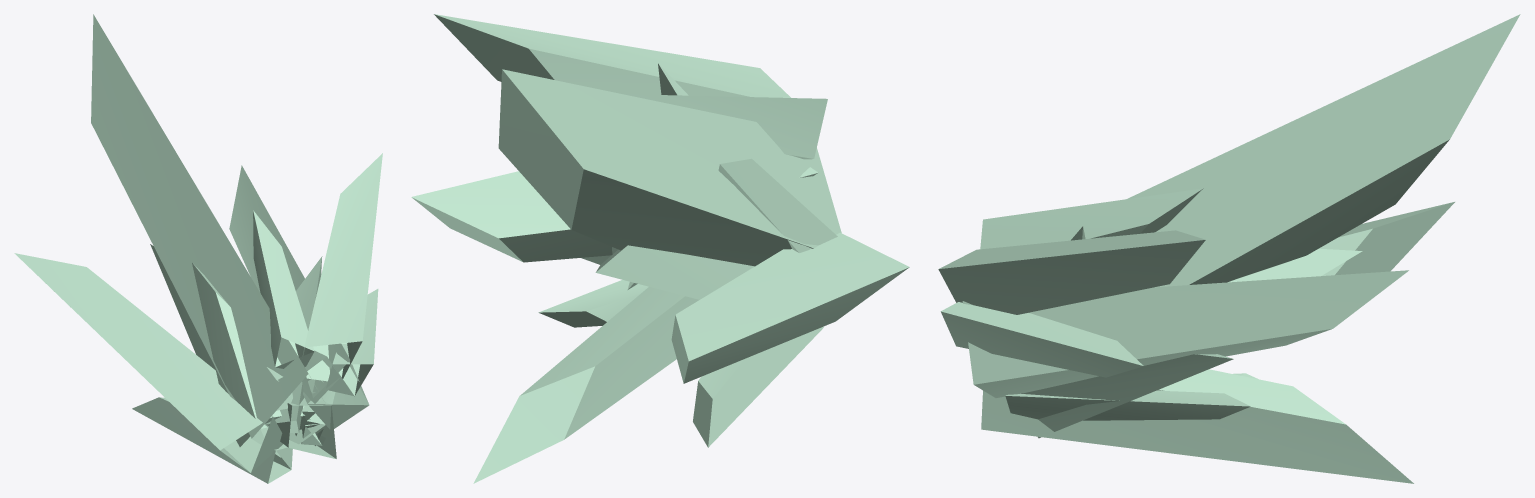
The picture shows the model from 3 angles, left to right: view 1: azimuth 30°, elevation 25°; view 2: azimuth 150°, elevation 25°; view 3: azimuth 270°, elevation 25°; orthographic projection. The views are drawn at different scales.
Parts seen in each view (by area): view 1: Object93; view 2: Object93; view 3: Object93.
Boxes of the visible parts, x1,y1,x2,y2 form: Object93: [14, 14, 382, 483]; Object93: [411, 14, 909, 483]; Object93: [938, 14, 1520, 483].
Bounding box in the file's own units: 31168 × 36226 × 44316.
